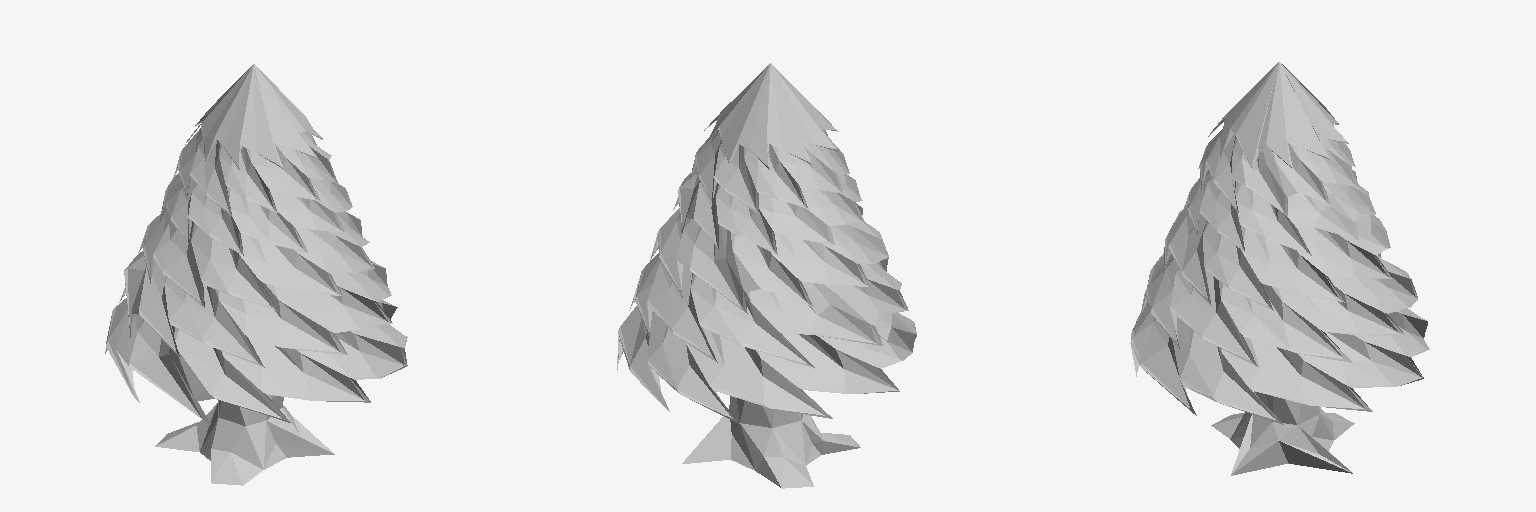
File: Pinetree.obj
3 views of the same model, side by side, from view 1: azimuth 30°, elevation 25°; view 2: azimuth 150°, elevation 25°; view 3: azimuth 270°, elevation 25° (orthographic).
Visible parts, largest first — view 1: Pinetree; view 2: Pinetree; view 3: Pinetree.
Part boxes in pixels (bbox=[...]): Pinetree: bbox=[105, 64, 407, 485]; Pinetree: bbox=[617, 63, 916, 488]; Pinetree: bbox=[1130, 62, 1429, 475].
Size of the model in its own units: 1.96 by 2.76 by 1.93.